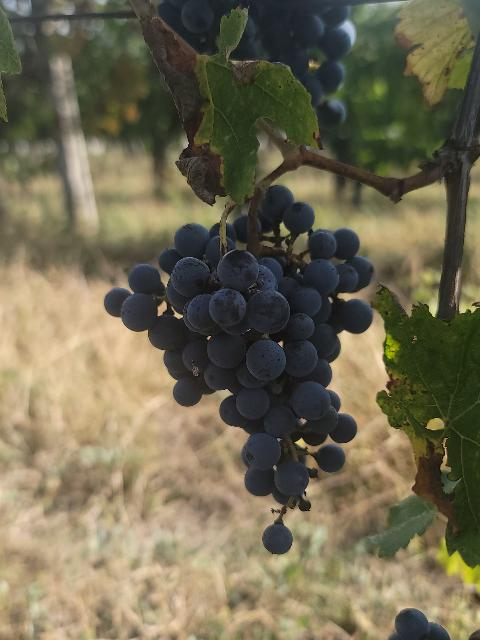grapes: (104, 185, 374, 554)
